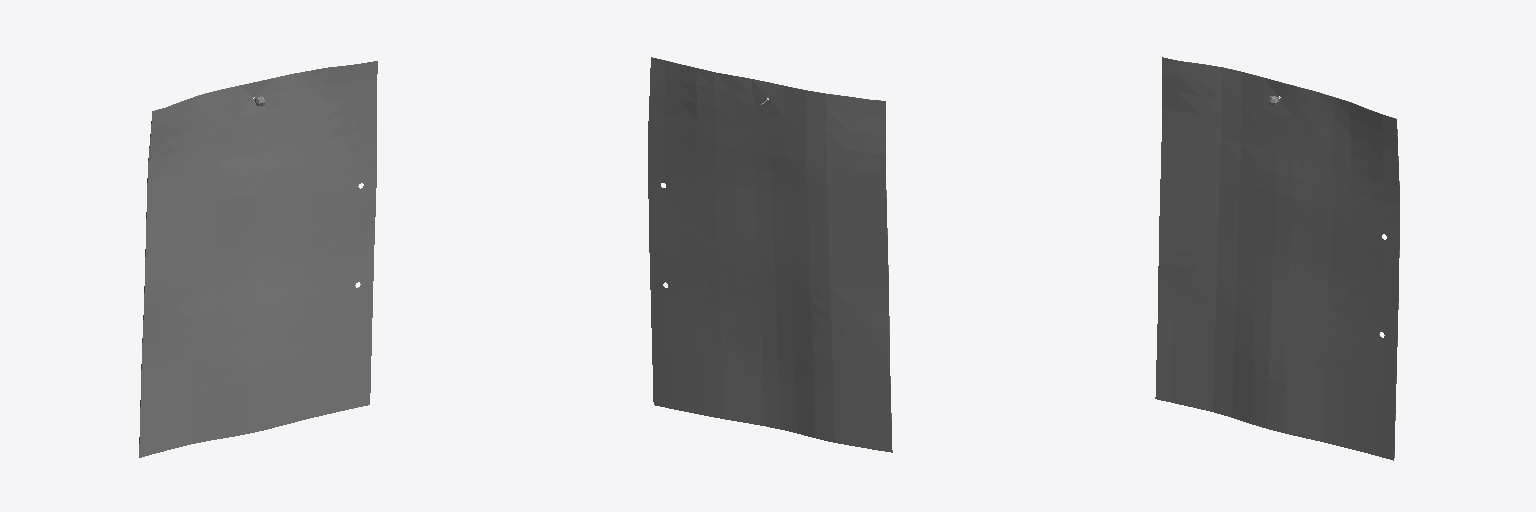
The model's file is note_A4_OBJ(3ds_Max_2013__Default_Scanline).obj.
The picture shows the model from 3 angles: view 1: azimuth 30°, elevation 25°; view 2: azimuth 150°, elevation 25°; view 3: azimuth 330°, elevation 25°; orthographic projection.
Visible parts, largest first — view 1: note_A4_001; view 2: note_A4_001; view 3: note_A4_001.
Part boxes in pixels (left/top/right/bottom): note_A4_001: left=139, top=61, right=377, bottom=457; note_A4_001: left=648, top=57, right=892, bottom=452; note_A4_001: left=1155, top=57, right=1399, bottom=460.
Bounding box in the file's own units: 216 × 302 × 24.88.